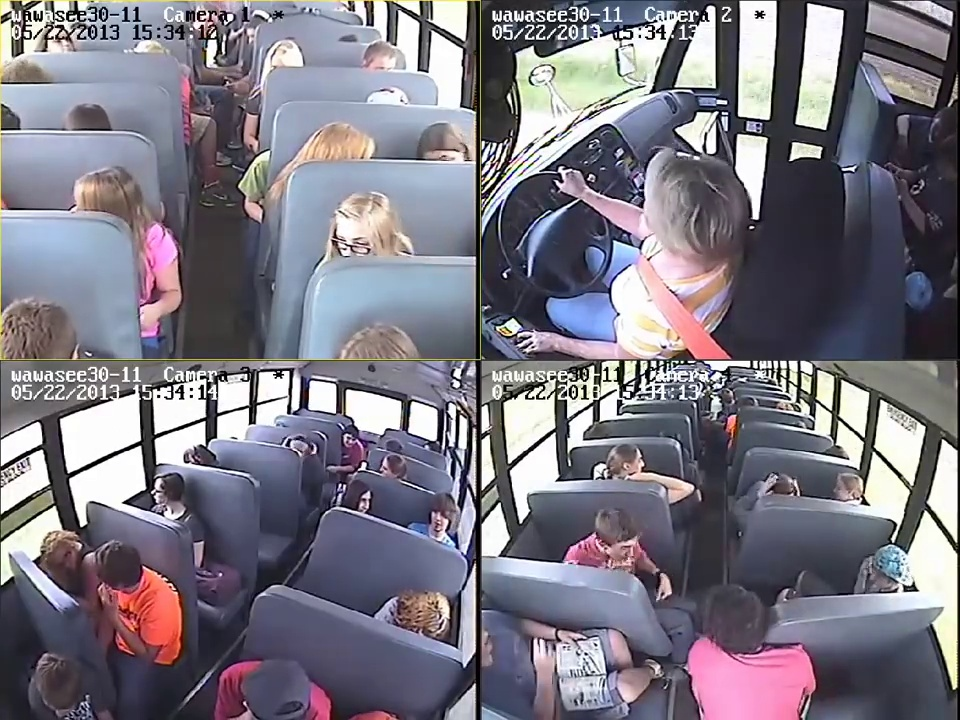face: (333, 206, 377, 261), (611, 535, 638, 563), (147, 477, 171, 506), (625, 451, 645, 480), (355, 485, 375, 511), (432, 507, 450, 533), (341, 431, 357, 448)
